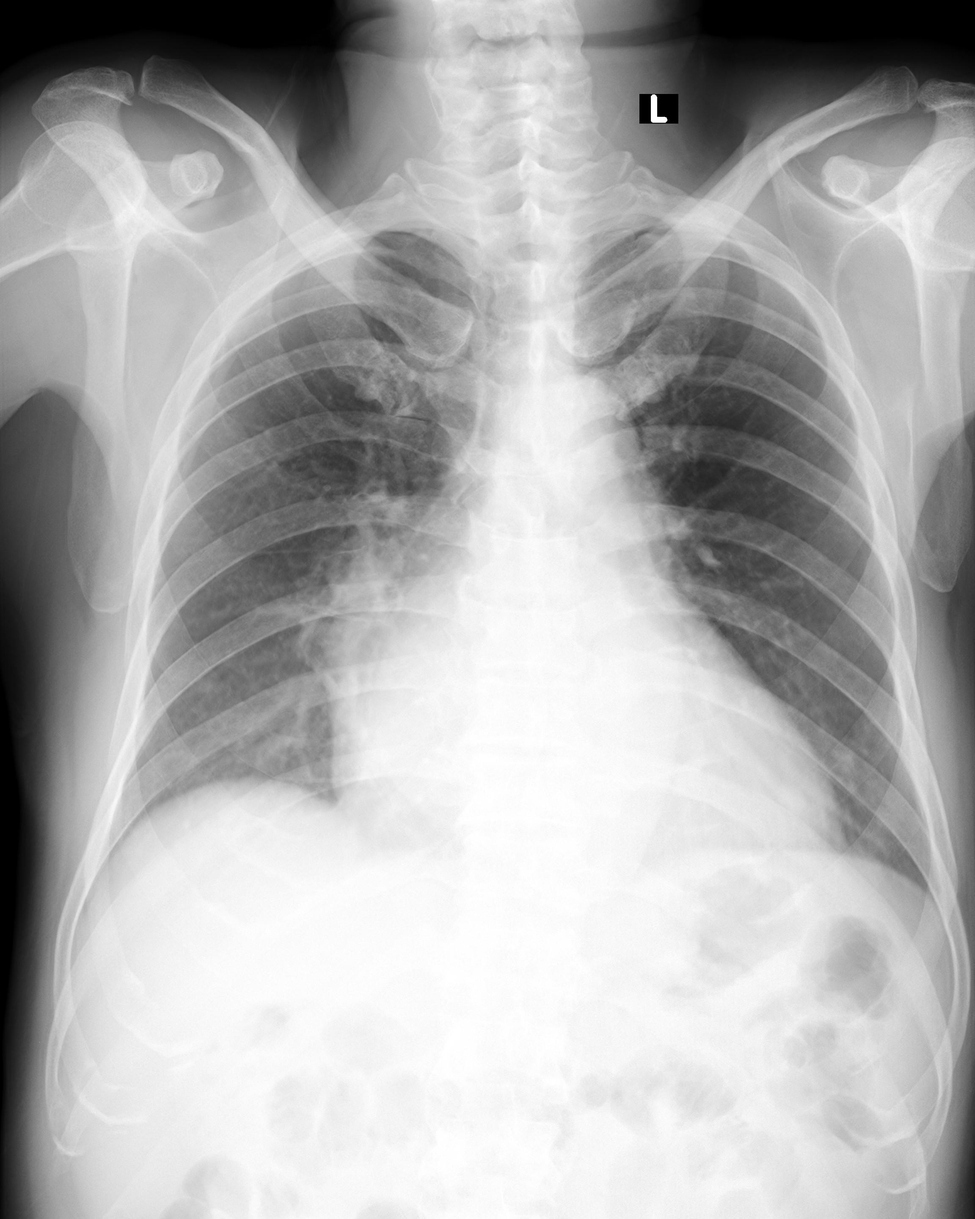Cardiomegaly: (320, 634, 838, 844)
